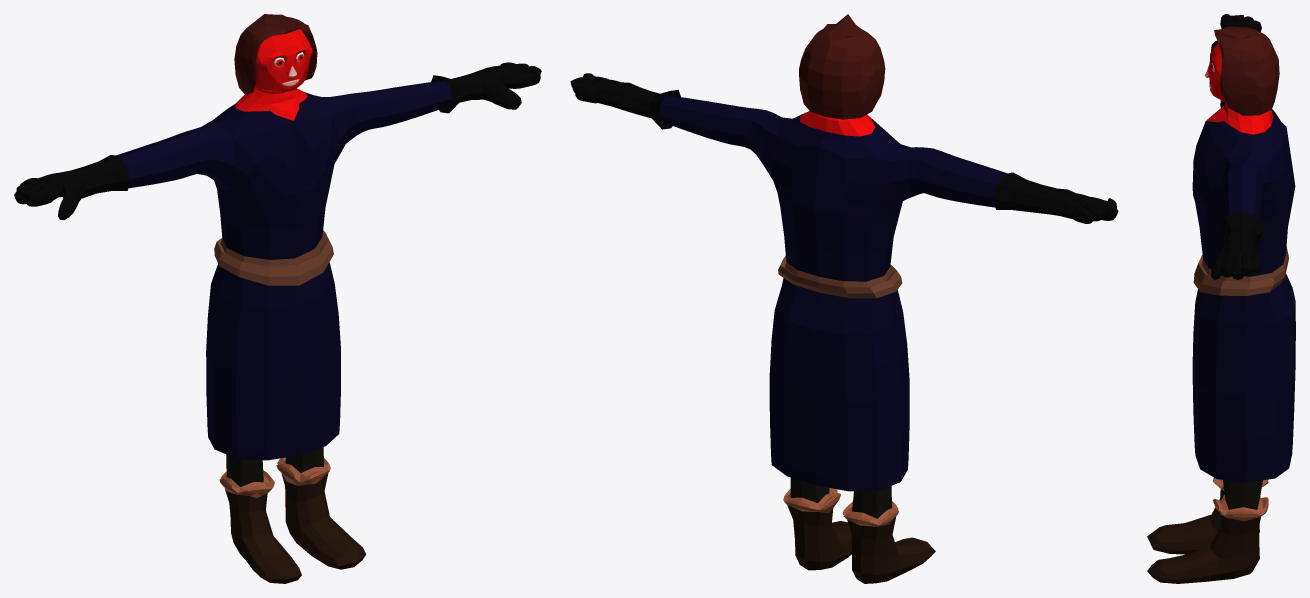
The model's file is EvilUncle.fbx.
3 views of the same model, side by side, from view 1: azimuth 30°, elevation 25°; view 2: azimuth 150°, elevation 25°; view 3: azimuth 270°, elevation 25° (orthographic). The views are drawn at different scales.
Visible parts, largest first — view 1: CharPerso; view 2: CharPerso; view 3: CharPerso.
Boxes of the visible parts, x1,y1,x2,y2 form: CharPerso: (14, 14, 541, 583); CharPerso: (570, 14, 1118, 583); CharPerso: (1147, 14, 1295, 583).
Bounding box in the file's own units: 147 × 143 × 35.78.
